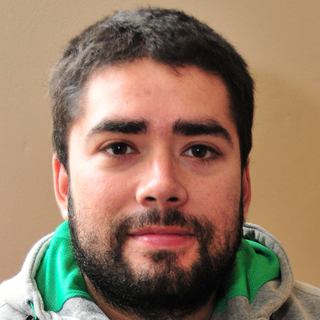eye: (96, 136, 142, 163), (177, 139, 225, 164)
